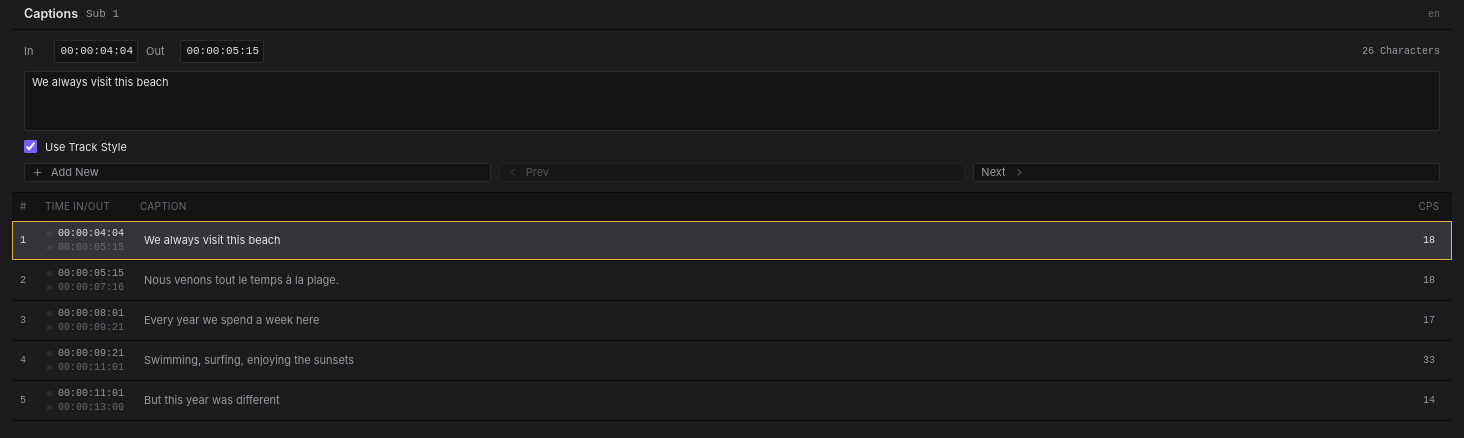
CaptionInspector (R19 captions) › text edit writes el.text through setElementField (live settle on blur)
This screenshot has width=1464, height=438.
Step 1. Replace the text in the text box with test id "shell-caption-inspector-textarea" with "We always visit this lovely beach" → (732, 100), box [24,70,1440,130]
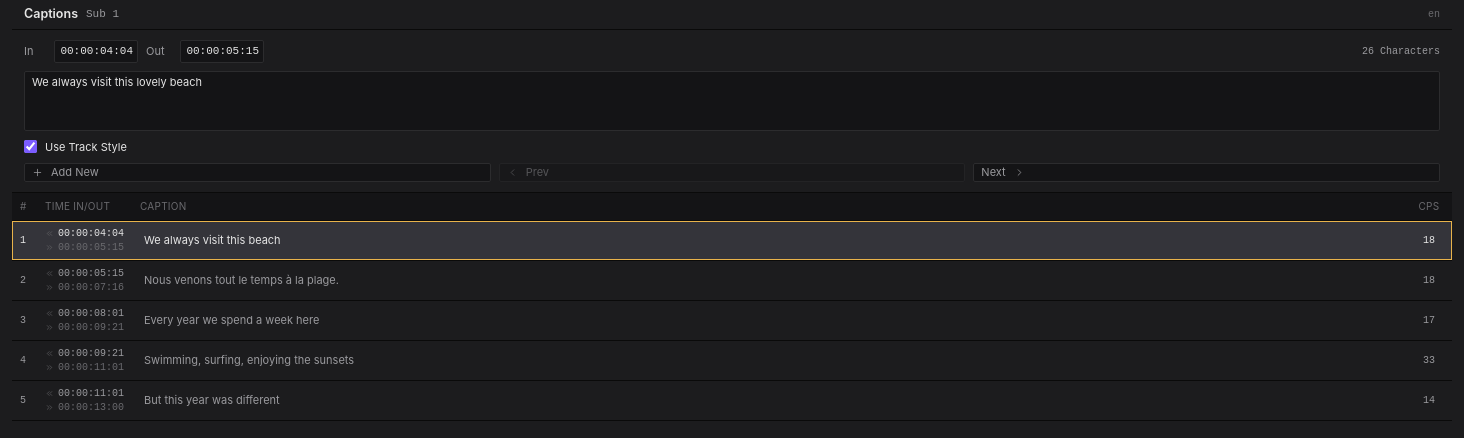
Step 2. Leave the text box with test id "shell-caption-inspector-textarea", box [24,70,1440,130]
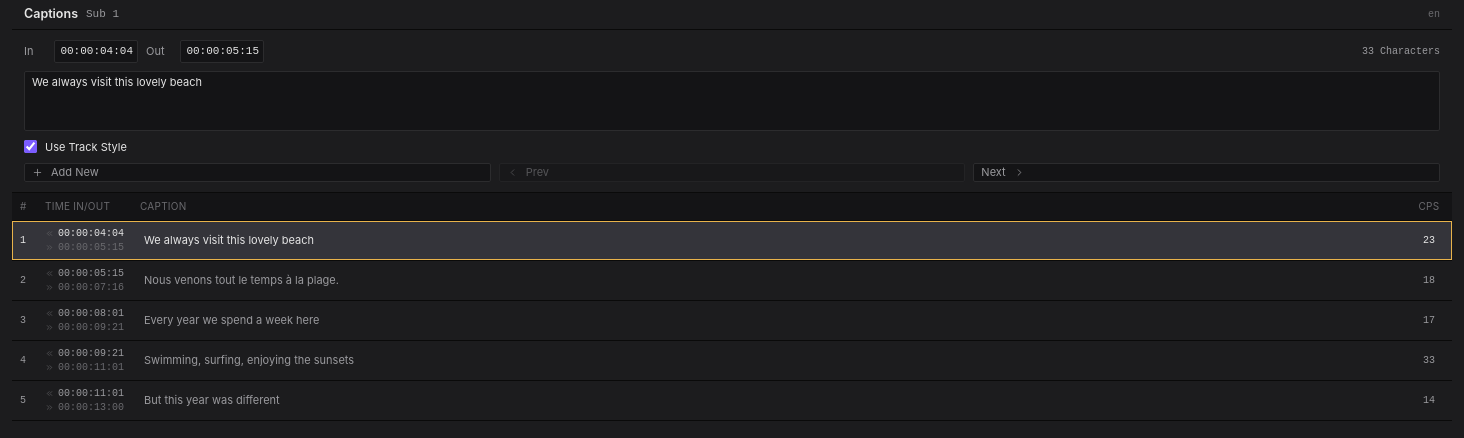
Now the text with test id "shell-caption-inspector-charcount" reads "33 Characters", box [1362,44,1440,59]
